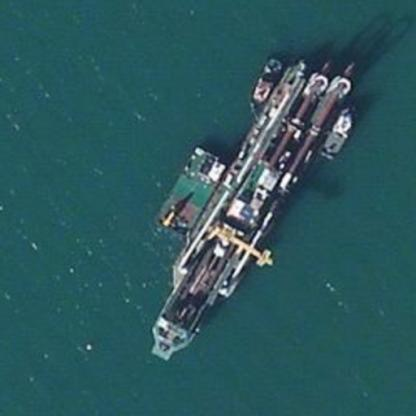ship: (144, 48, 372, 366)
